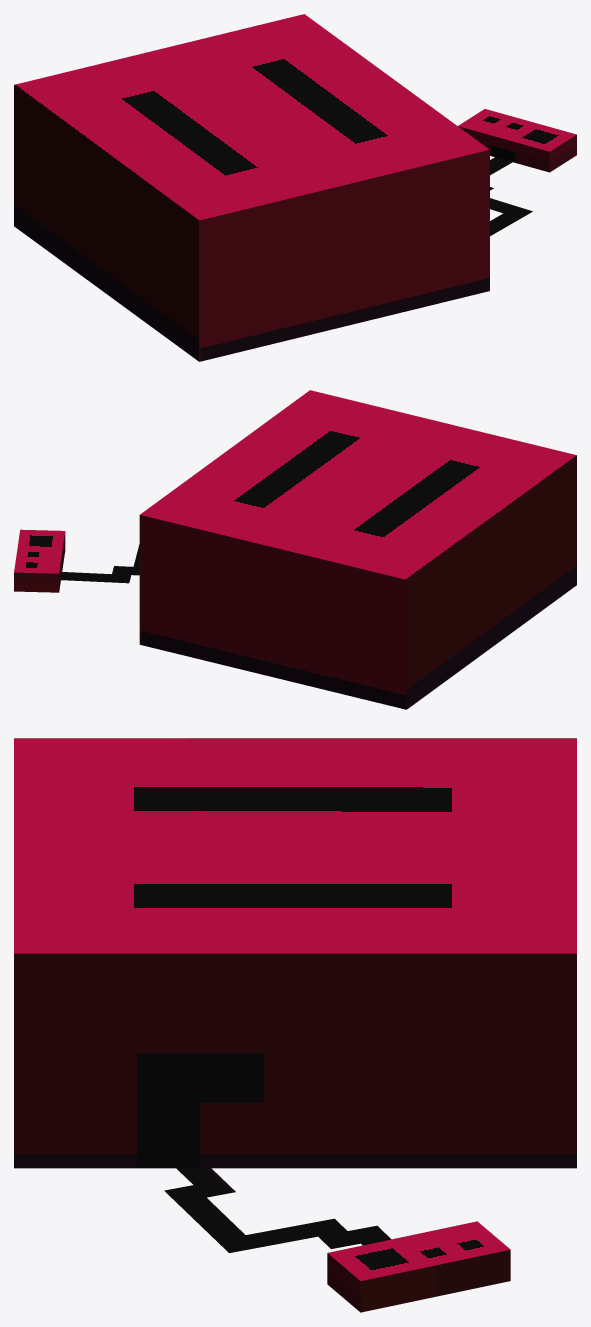
Rendered from Consola.obj.
3 renders of one model, top to bottom at view 1: azimuth 30°, elevation 25°; view 2: azimuth 150°, elevation 25°; view 3: azimuth 270°, elevation 25°, orthographic. The views are drawn at different scales.
Parts seen in each view (by area): view 1: Cube; view 2: Cube; view 3: Cube.
Boxes of the visible parts, x1=… form: Cube: x1=14, y1=14, x2=576, y2=361; Cube: x1=14, y1=390, x2=576, y2=709; Cube: x1=14, y1=738, x2=576, y2=1312.
Size of the model in its own units: 0.5699 by 0.1567 by 0.3721.
1 material, 1 textured.
